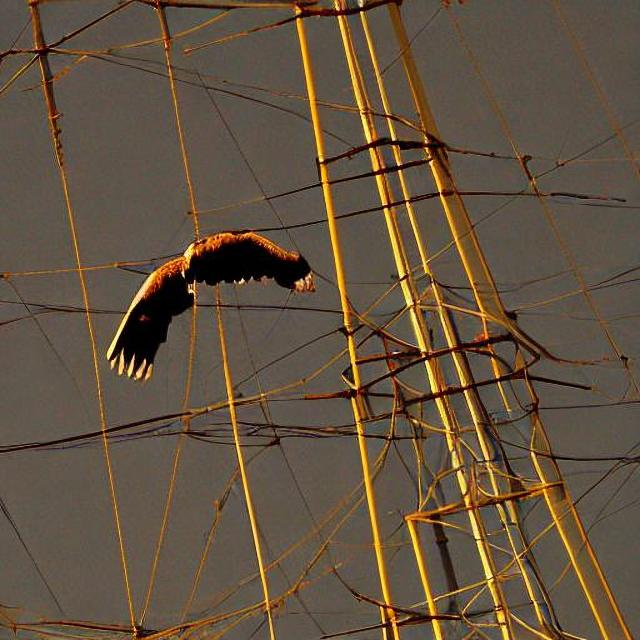floating object: (106, 233, 313, 379)
